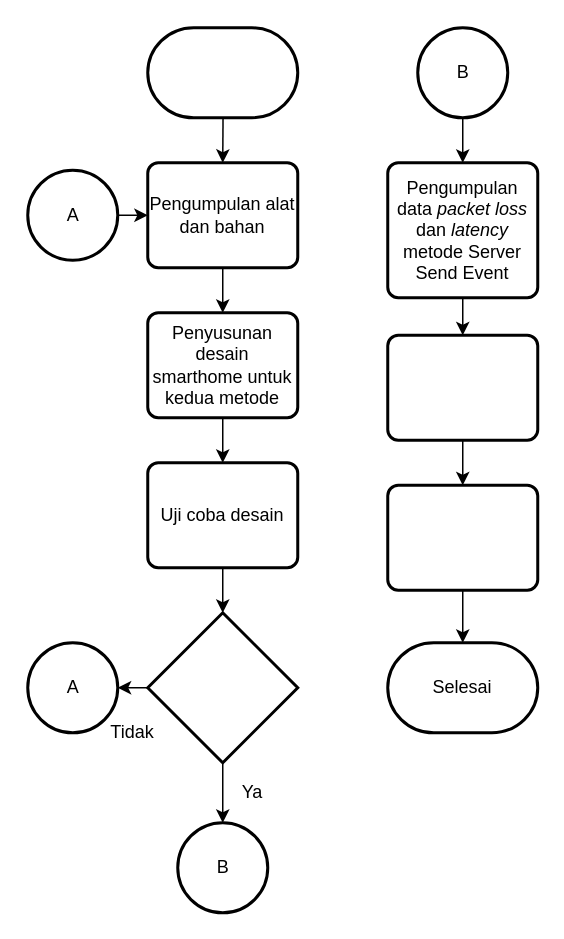
Image size: 564x939. Some labels were removed from this diagram. The shapes that lost their labels are listed below. From the top down, each one's box as (x1, y1, x2, y2) in pixels, then its label:
(146, 26, 298, 118): Mulai
(386, 333, 538, 441): Pengumpulan data packet loss dan latency dari metode websocket
(386, 483, 538, 591): Membandingkan data
(146, 610, 298, 764): Apakah desain berhasil ?
